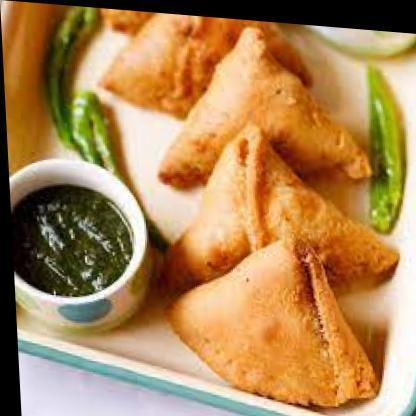samosa: (146, 115, 400, 312), (150, 16, 371, 200), (159, 224, 376, 405), (94, 6, 315, 126)
